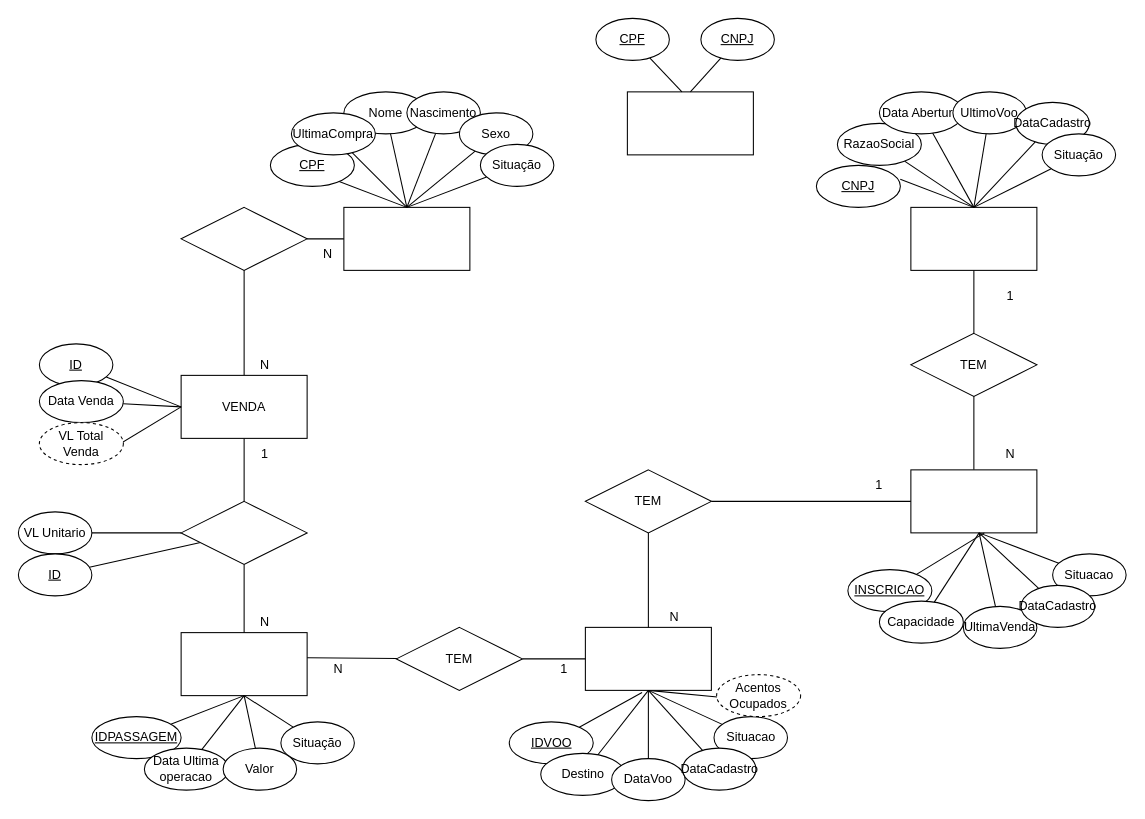
Image size: 1145x819. Some labels were removed from this diagram. The shapes that lost their labels are listed below. From the top down, each one's centre as x and y in pixels, then its label:
pixel 689 123: RESTRIÇÃO
pixel 243 238: Possui
pixel 406 238: PASSAGEIRO
pixel 973 238: COMPANHIA AEREA
pixel 973 501: AERONAVE
pixel 243 532: ESTA Á
pixel 243 664: PASSAGEM
pixel 647 658: VOO
